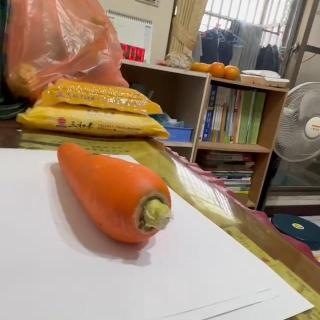carrot: (56, 142, 172, 245)
